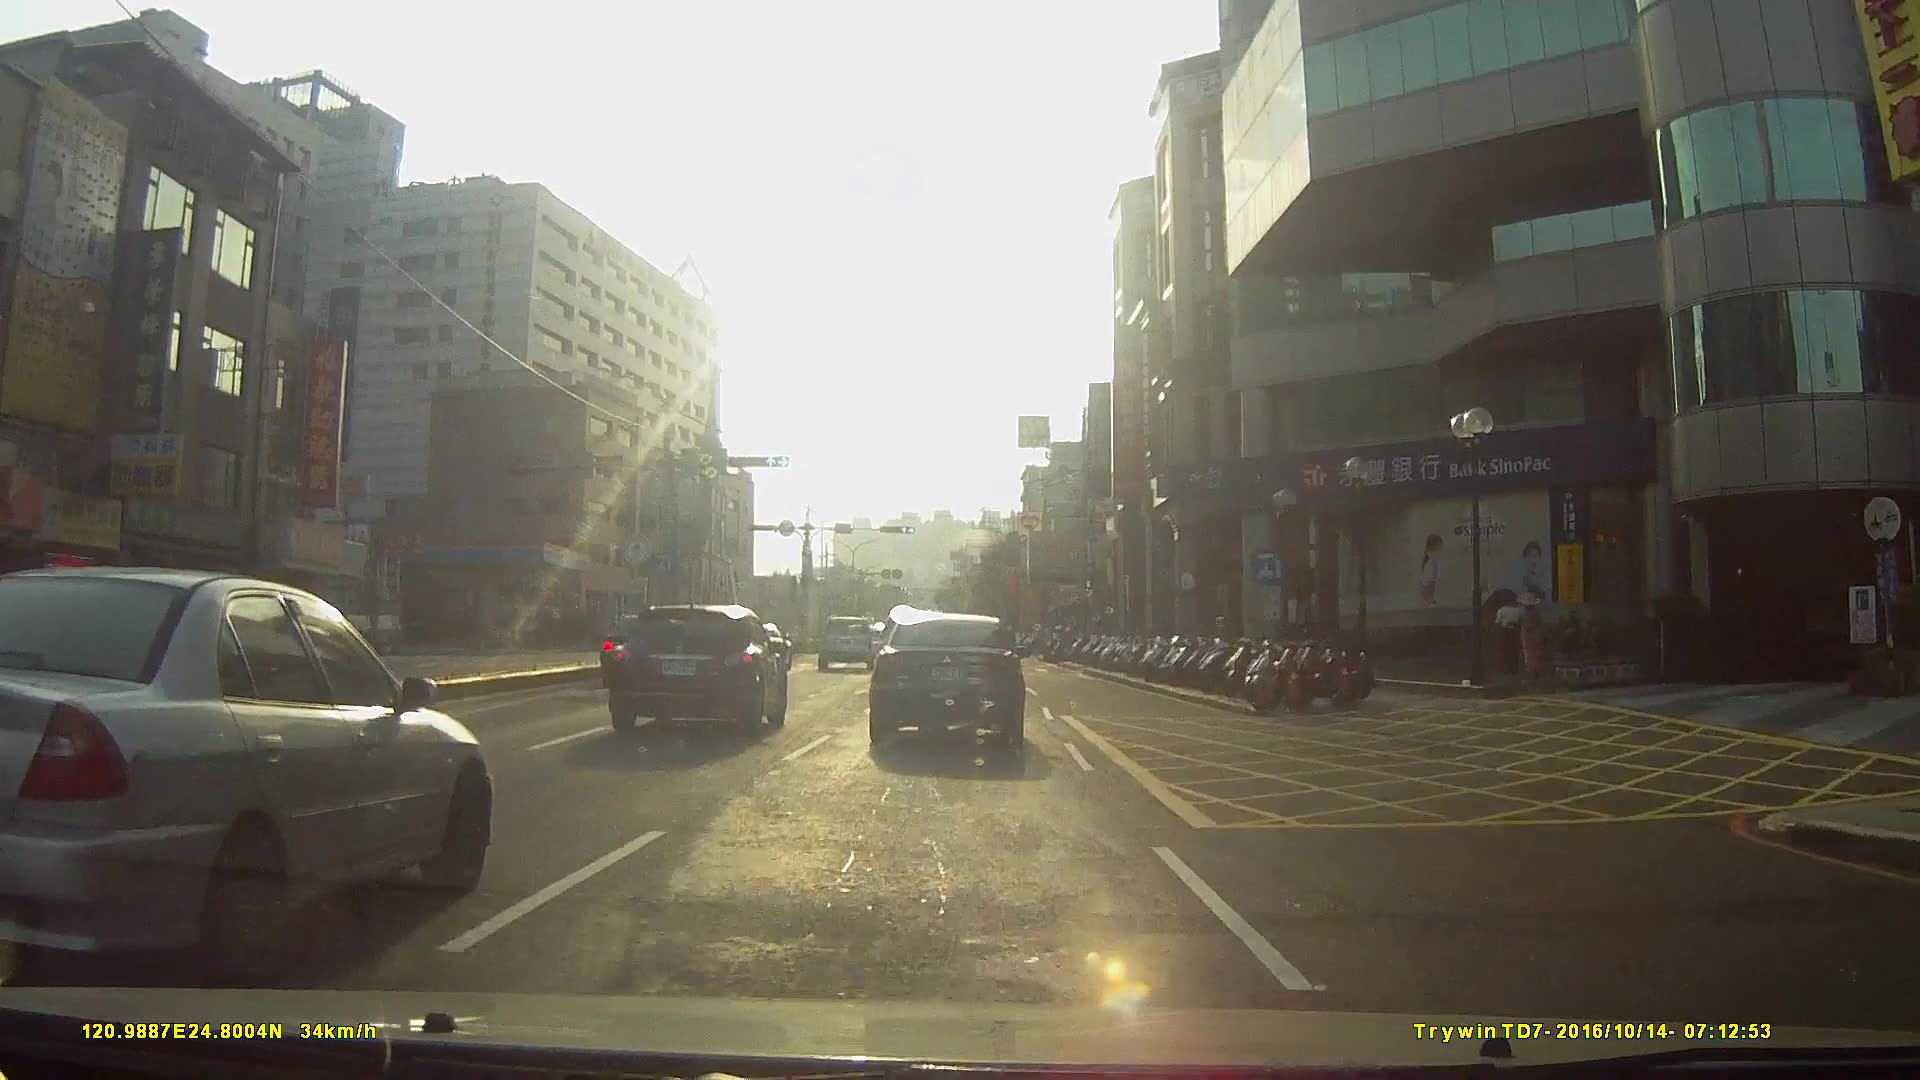pedestrian: (1494, 586, 1532, 674), (1518, 588, 1554, 679)
vehicle: (0, 556, 484, 991), (604, 594, 784, 733), (865, 610, 1024, 751), (811, 609, 873, 667)
